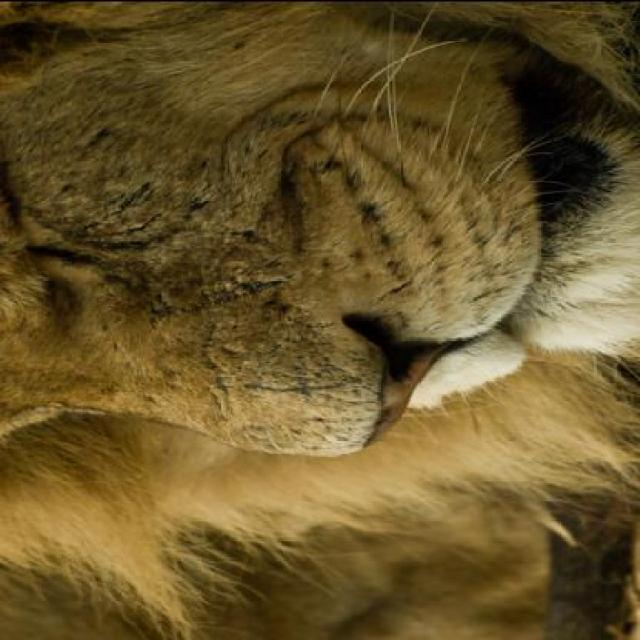Lion: (14, 1, 638, 634)
